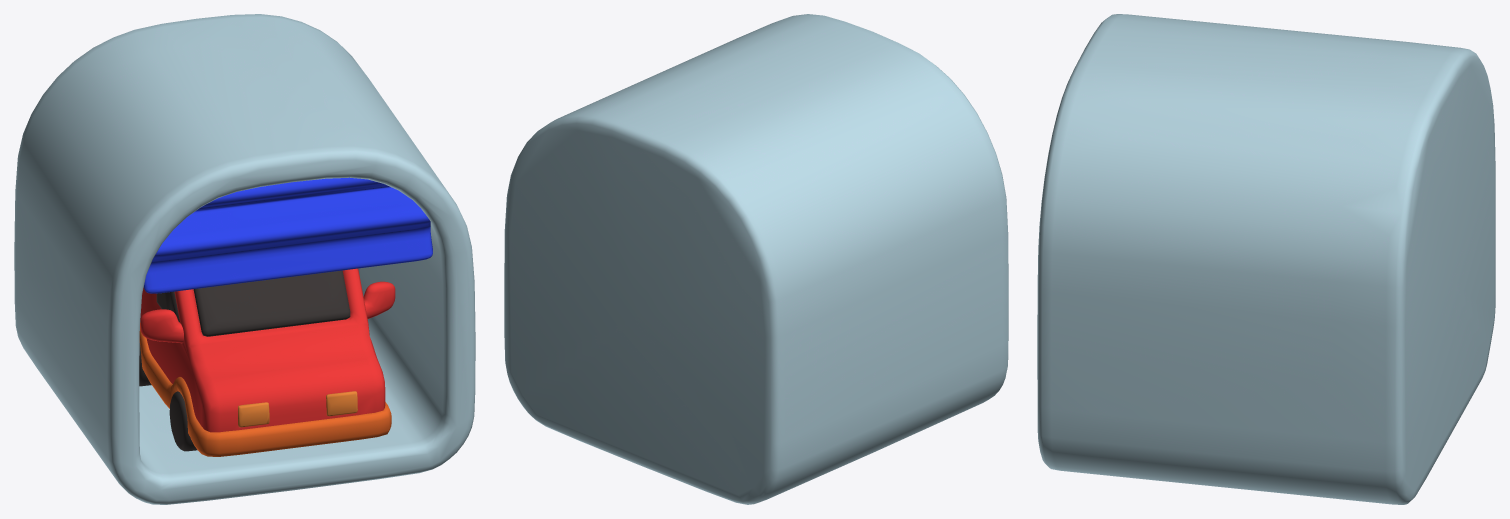
The model's file is garage.glb.
3 renders of one model, left to right at view 1: azimuth 30°, elevation 25°; view 2: azimuth 150°, elevation 25°; view 3: azimuth 270°, elevation 25°, orthographic. The views are drawn at different scales.
Visible parts, largest first — view 1: Cube; view 2: Cube; view 3: Cube.
Boxes of the visible parts, bbox=[...] form: Cube: bbox=[14, 14, 475, 504]; Cube: bbox=[504, 14, 1008, 504]; Cube: bbox=[1037, 14, 1495, 504].
Bounding box in the file's own units: 1.54 × 1.28 × 1.46.
1 material, 1 textured.
